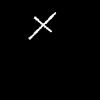single_crochet: (29, 12, 55, 38)
